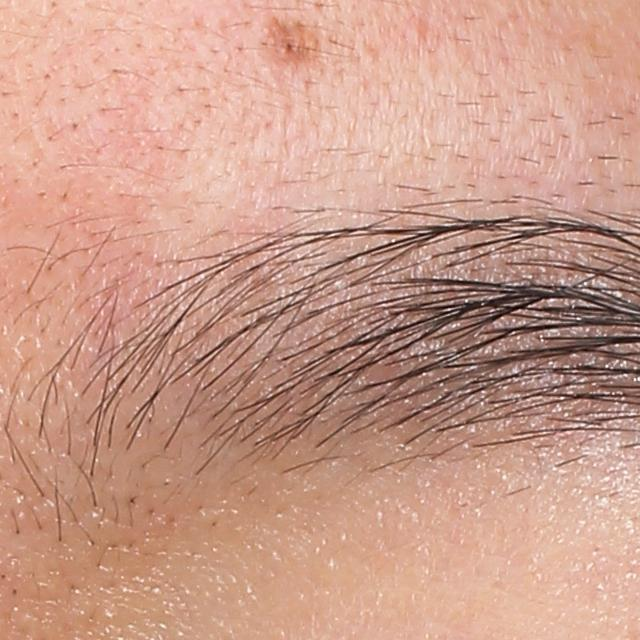nevus: (258, 13, 323, 72)
